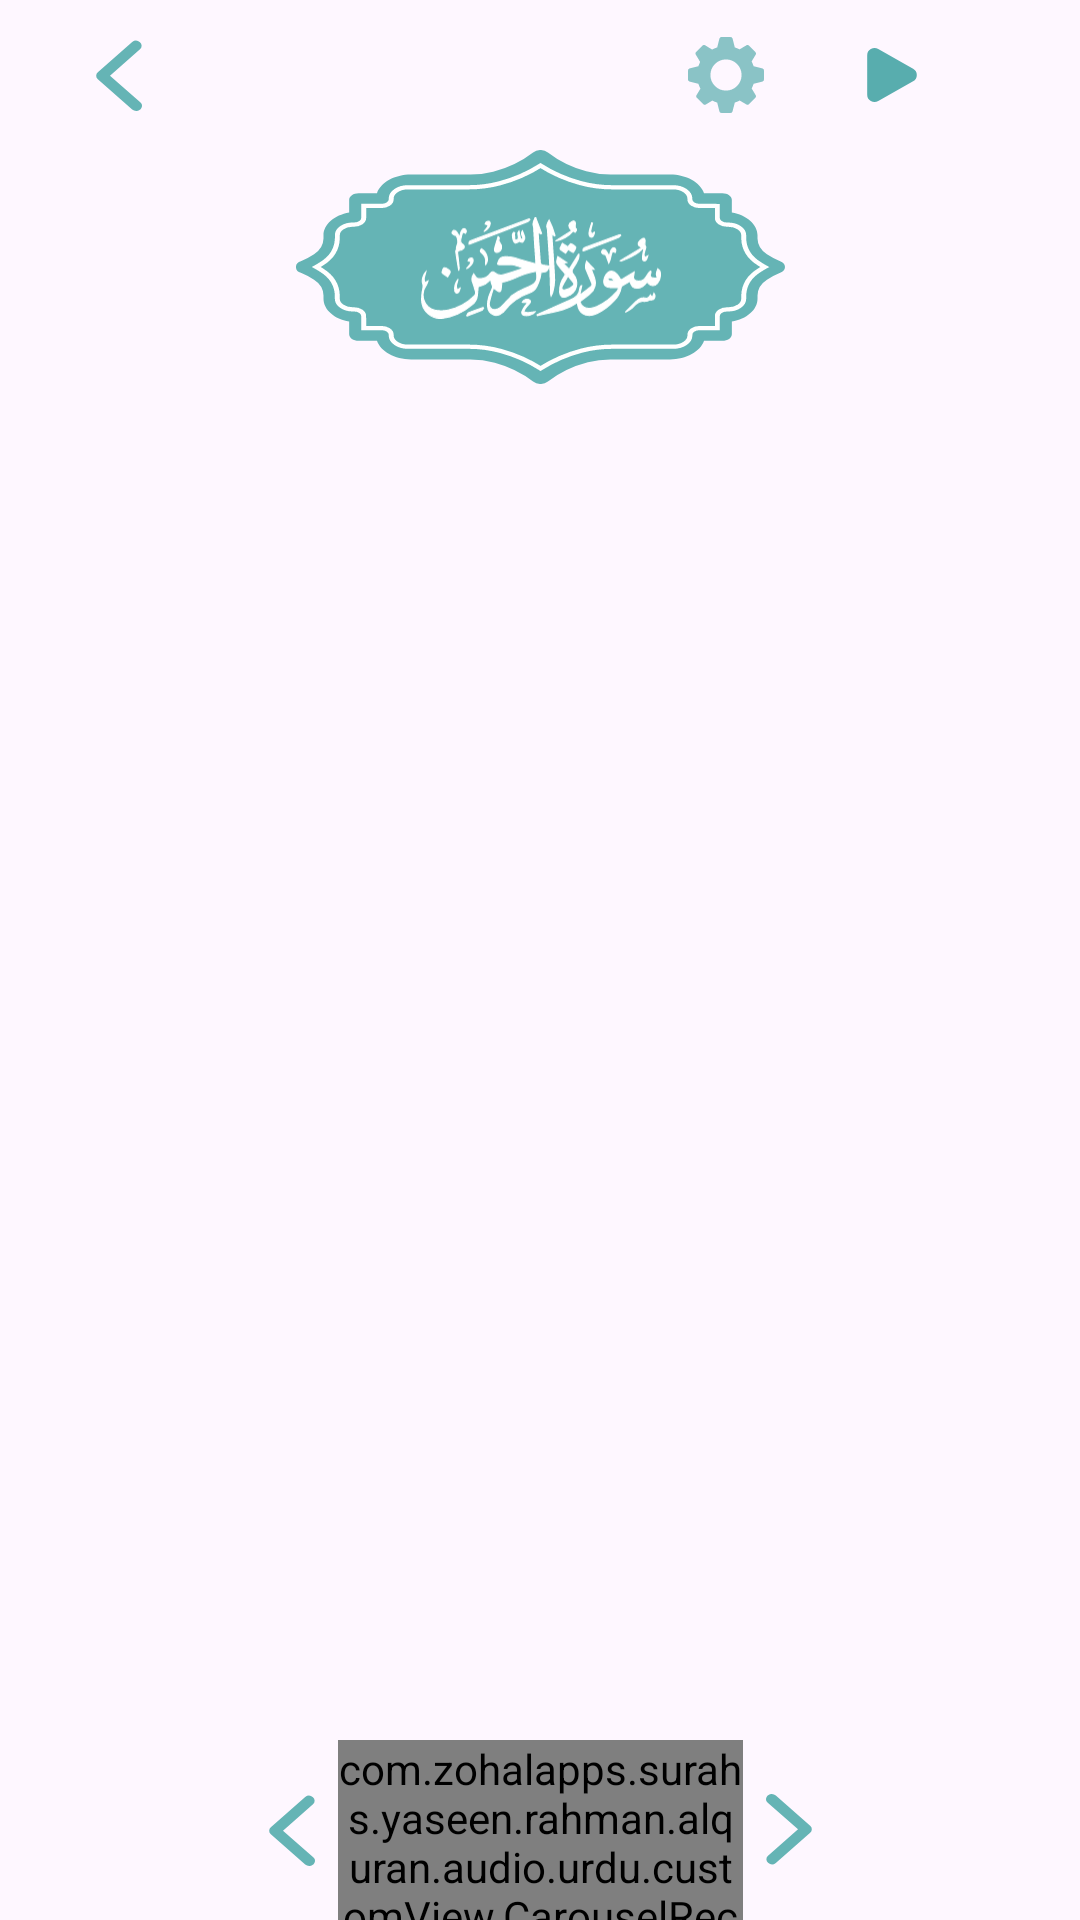

Point at icon controls on the screen. Image size 1080x1920, points as [x,y].
play click: [892,75]
setting: [726,75]
